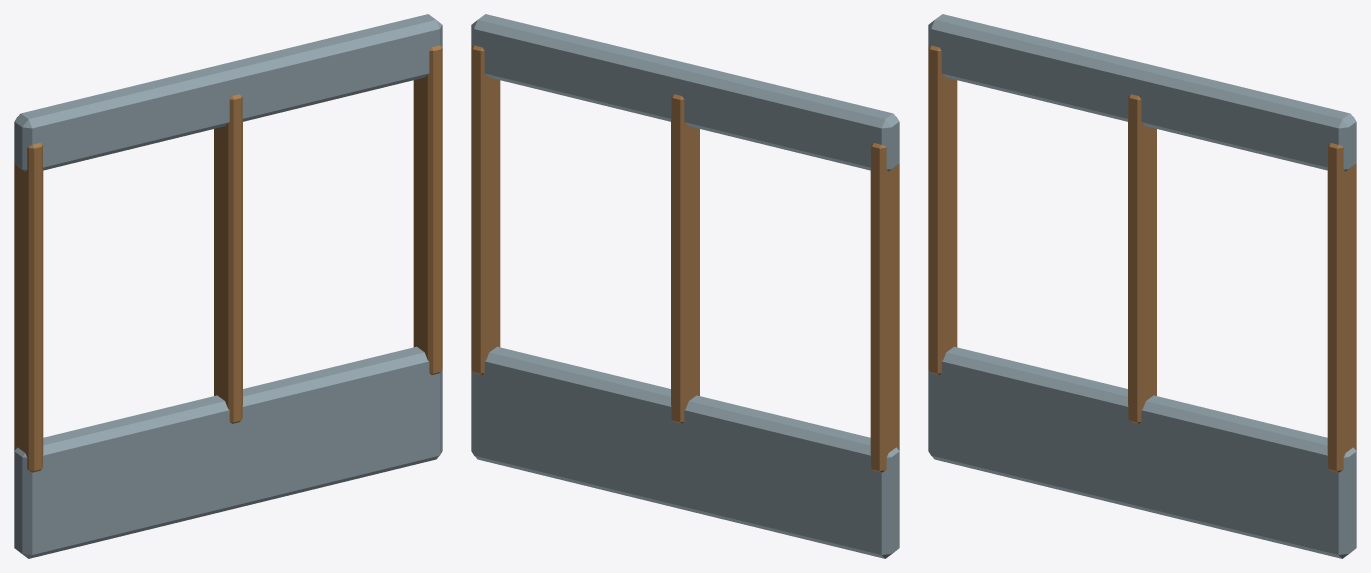
File: window.lod0.glb
3 views of the same model, side by side, from view 1: azimuth 30°, elevation 25°; view 2: azimuth 150°, elevation 25°; view 3: azimuth 330°, elevation 25° (orthographic).
Visible parts, largest first — view 1: structure; view 2: structure; view 3: structure.
Boxes of the visible parts, x1,y1,x2,y2 form: structure: [14, 14, 442, 558]; structure: [471, 14, 899, 558]; structure: [928, 14, 1356, 558].
Bounding box in the file's own units: 4 × 4 × 0.3.
